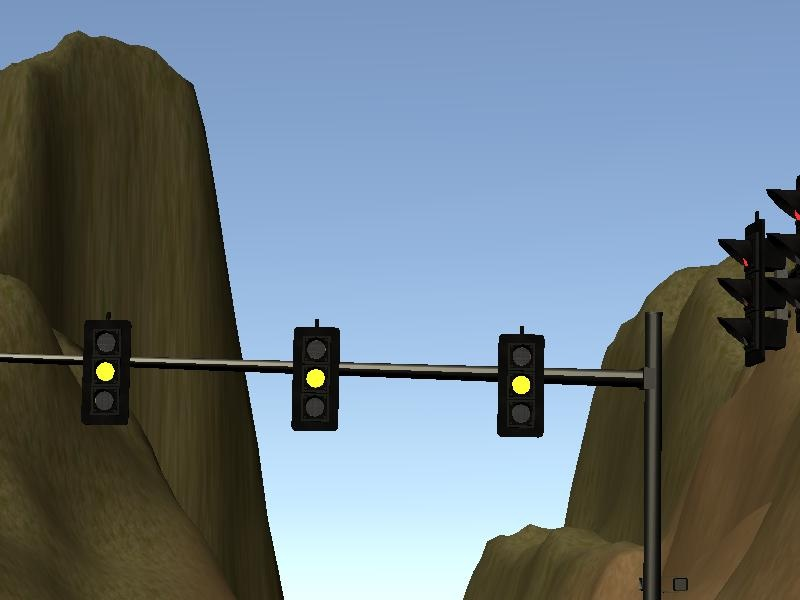YELLOW: (289, 327, 342, 432), (493, 334, 546, 439), (81, 322, 130, 424)
